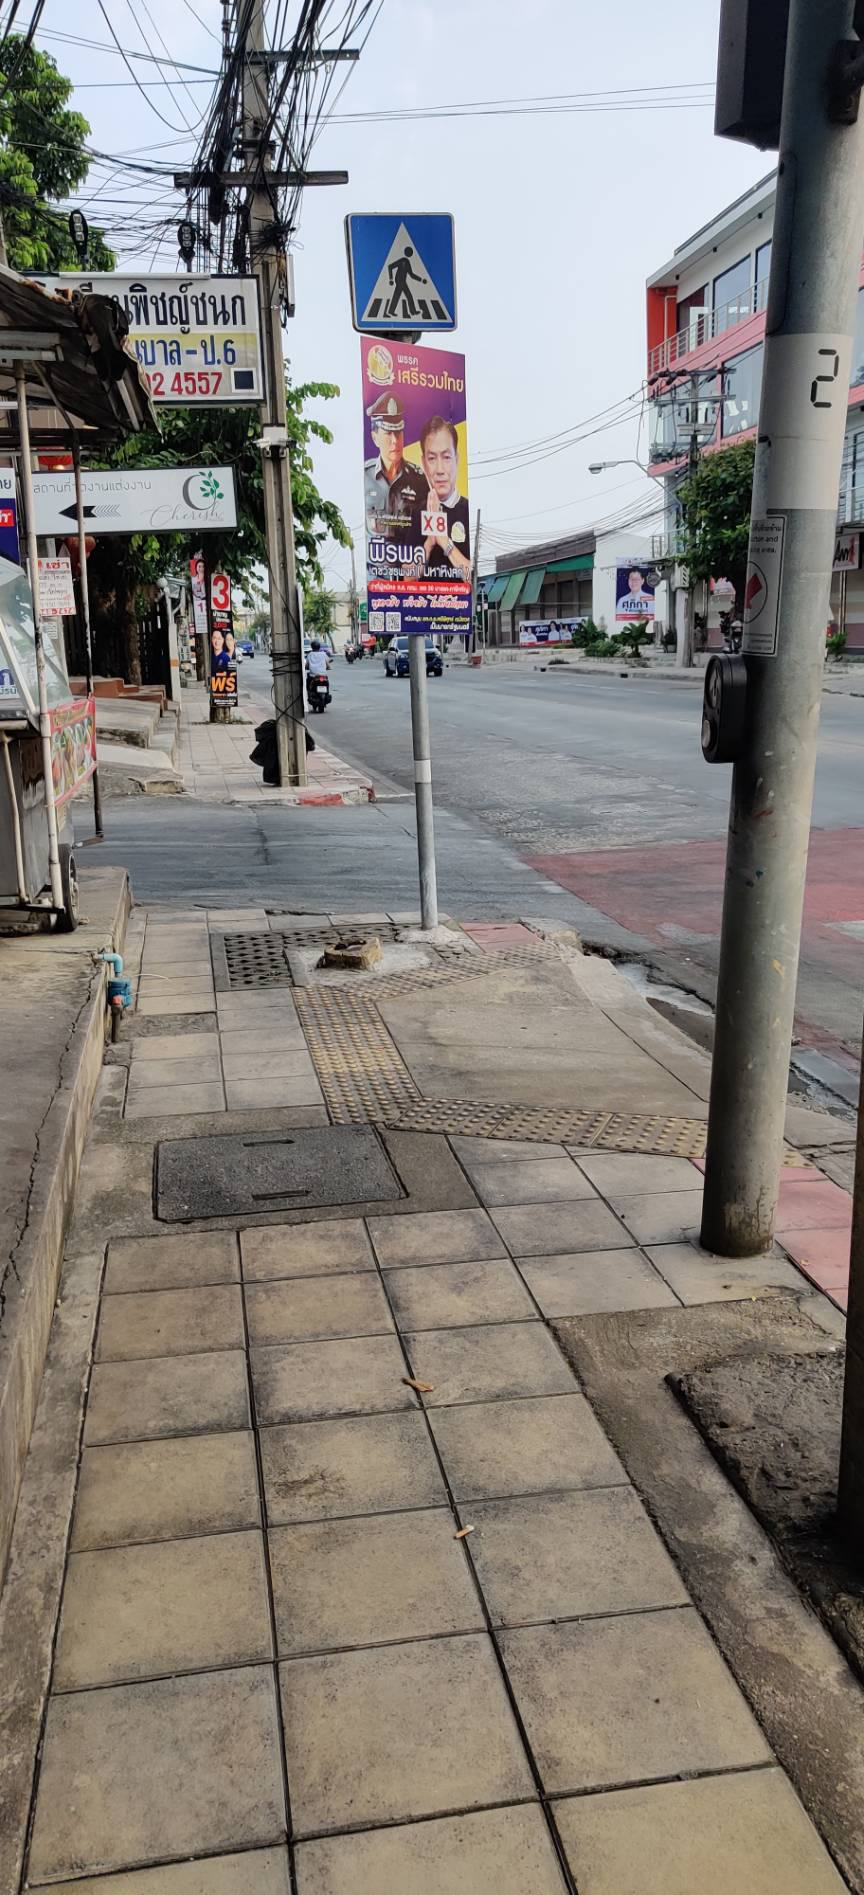Banner: (352, 329, 474, 628)
